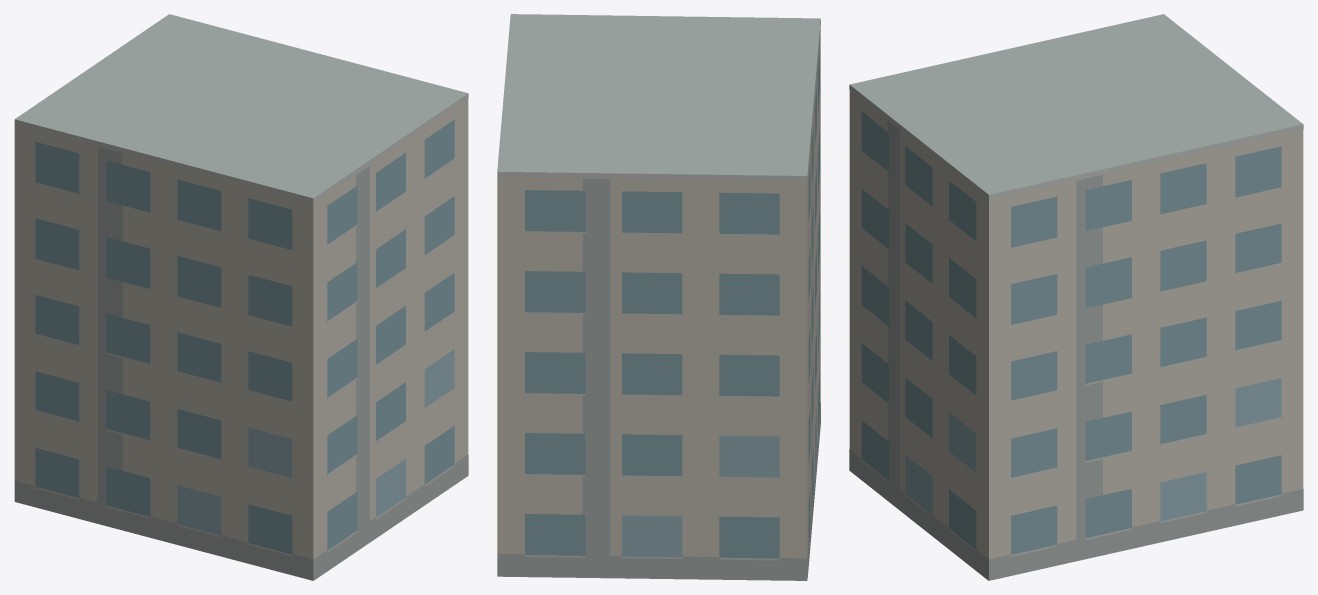
The model's file is survey-upis-32886688.glb.
The picture shows the model from 3 angles, left to right: view 1: azimuth 30°, elevation 25°; view 2: azimuth 150°, elevation 25°; view 3: azimuth 270°, elevation 25°; orthographic projection. The views are drawn at different scales.
Parts seen in each view (by area): view 1: survey-upis-32886688.tmp; view 2: survey-upis-32886688.tmp; view 3: survey-upis-32886688.tmp.
Boxes of the visible parts, x1,y1,x2,y2 form: survey-upis-32886688.tmp: [14, 14, 468, 580]; survey-upis-32886688.tmp: [497, 14, 820, 580]; survey-upis-32886688.tmp: [849, 14, 1303, 580].
Bounding box in the file's own units: 17.06 × 16.98 × 18.11.
